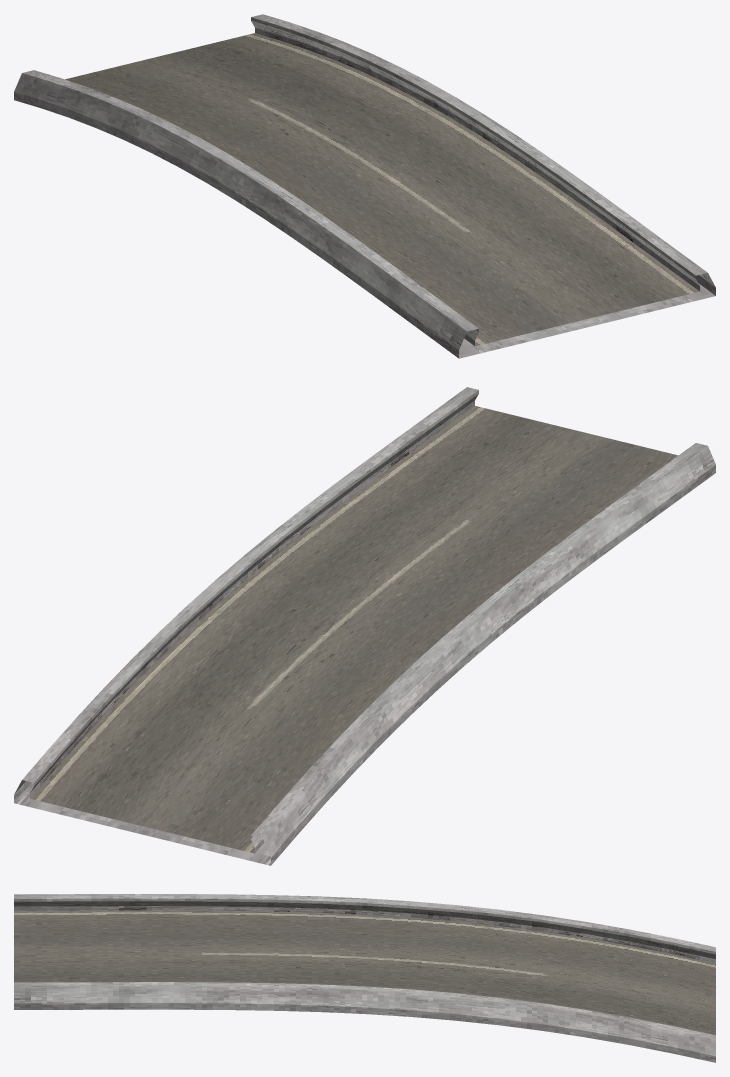
The model's file is road-Straight-Flat-BiSlopeDown-Down1-Center-Size3.glb.
3 renders of one model, top to bottom at view 1: azimuth 30°, elevation 25°; view 2: azimuth 150°, elevation 25°; view 3: azimuth 270°, elevation 25°, orthographic. The views are drawn at different scales.
Parts seen in each view (by area): view 1: road-Straight-Flat-BiSlopeDown-Down1-Center-Size3; view 2: road-Straight-Flat-BiSlopeDown-Down1-Center-Size3; view 3: road-Straight-Flat-BiSlopeDown-Down1-Center-Size3.
Part boxes in pixels (x1=…): road-Straight-Flat-BiSlopeDown-Down1-Center-Size3: x1=14, y1=14, x2=715, y2=358; road-Straight-Flat-BiSlopeDown-Down1-Center-Size3: x1=14, y1=387, x2=715, y2=865; road-Straight-Flat-BiSlopeDown-Down1-Center-Size3: x1=14, y1=894, x2=715, y2=1062.
Size of the model in its own units: 1 by 0.3448 by 3.
2 materials, 2 textured.
